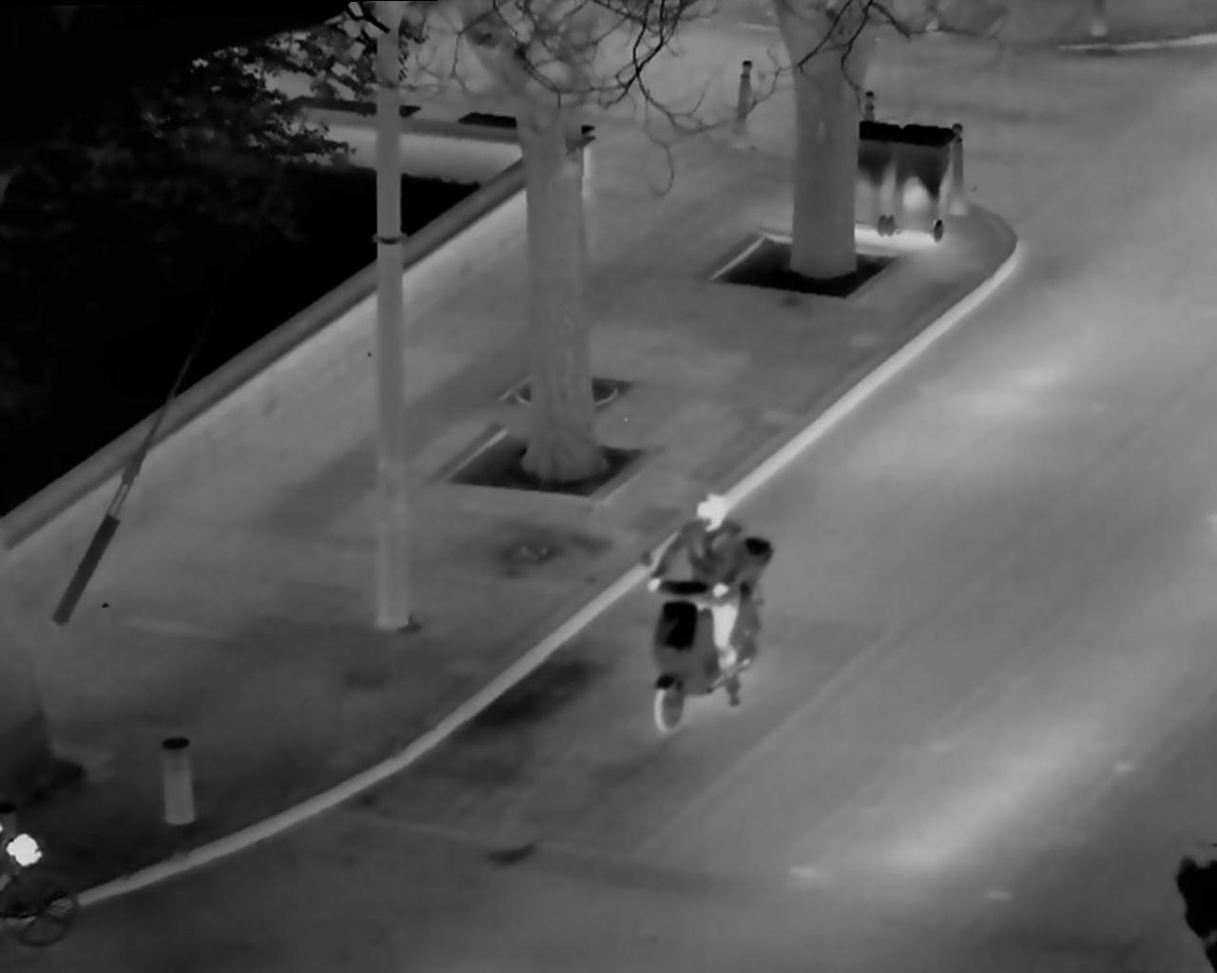person: (643, 483, 772, 710)
